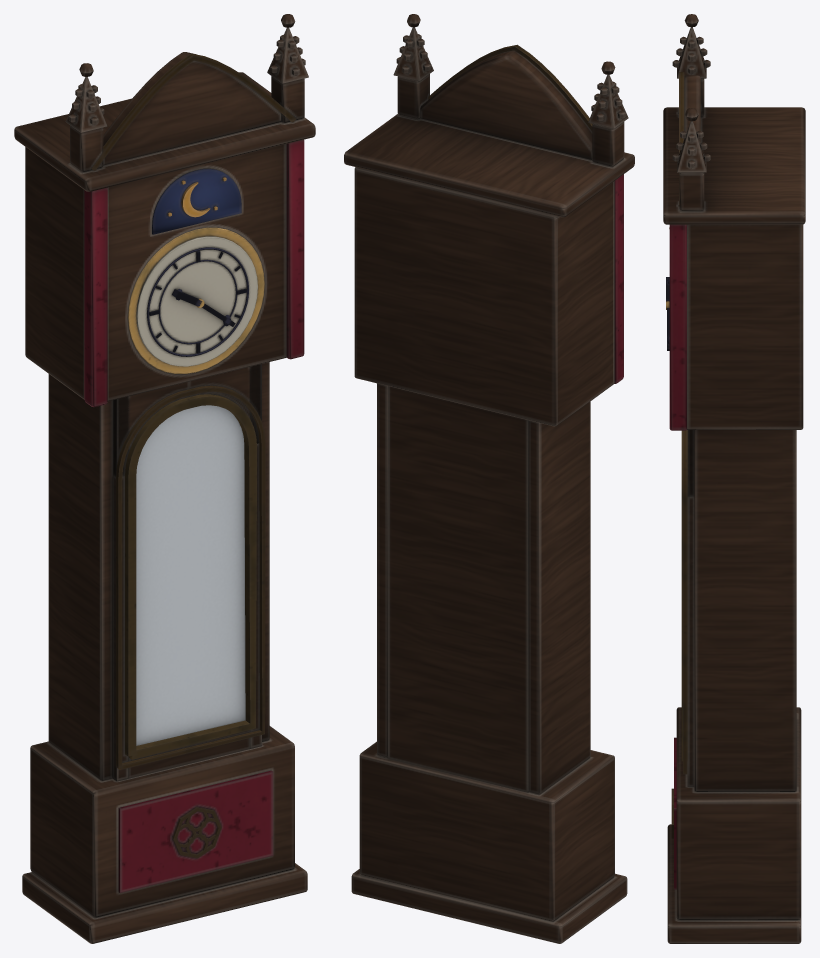
The model's file is LibraryClock.fbx.
3 views of the same model, side by side, from view 1: azimuth 30°, elevation 25°; view 2: azimuth 150°, elevation 25°; view 3: azimuth 270°, elevation 25° (orthographic). The views are drawn at different scales.
Visible parts, largest first — view 1: LibraryClock_Main, LibraryClock_Glass; view 2: LibraryClock_Main; view 3: LibraryClock_Main.
Part boxes in pixels (x1,y1,x2,y2): LibraryClock_Main: (14, 14, 315, 943); LibraryClock_Glass: (136, 405, 245, 745); LibraryClock_Main: (344, 14, 634, 943); LibraryClock_Main: (663, 14, 805, 943).
Size of the model in its own units: 291 by 1033 by 160.
